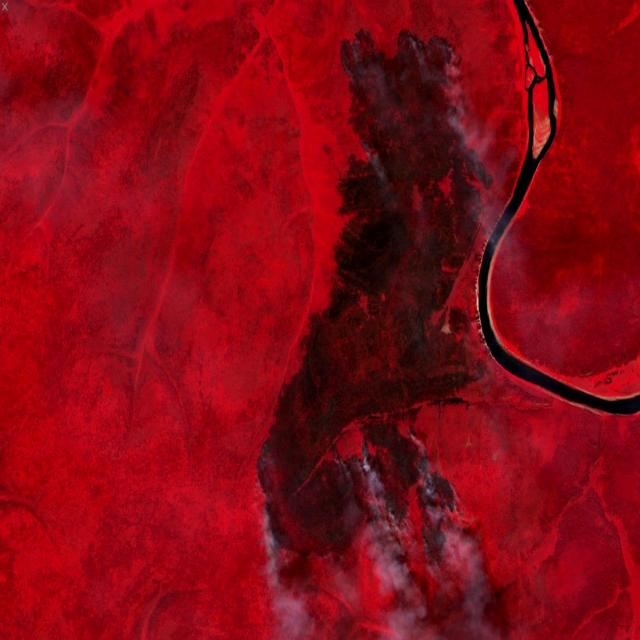fire: (247, 10, 500, 582)
